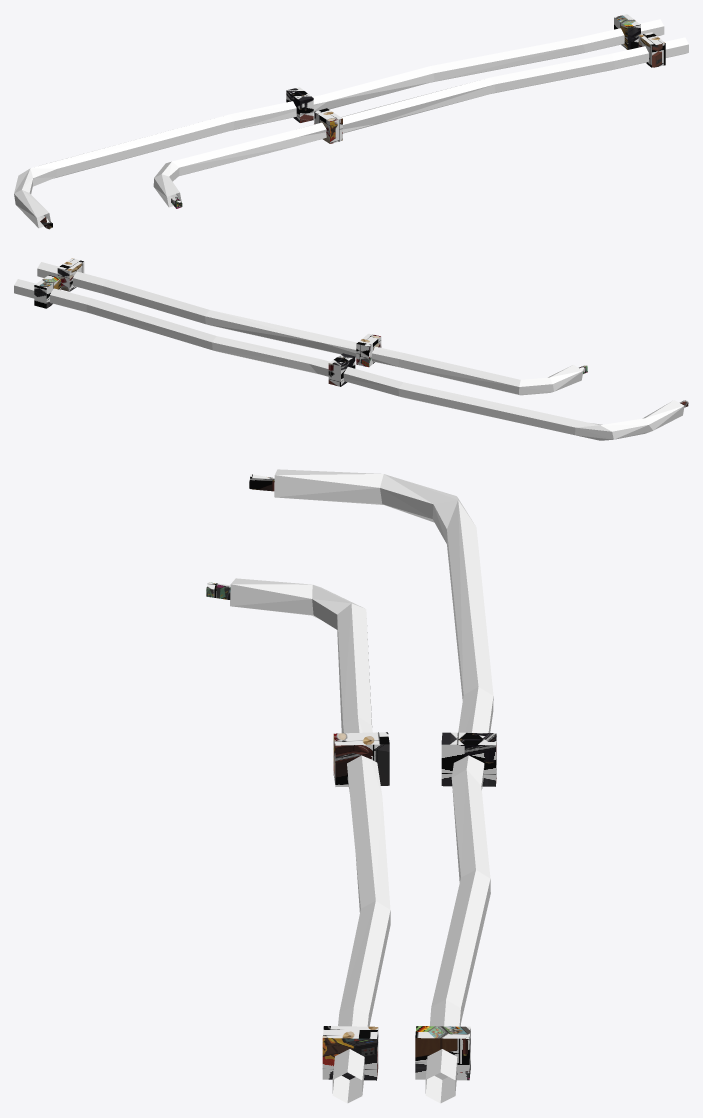
3 views of the same model, one above another, from view 1: azimuth 30°, elevation 25°; view 2: azimuth 150°, elevation 25°; view 3: azimuth 270°, elevation 25° (orthographic). The views are drawn at different scales.
Bounding box in the file's own units: 1.01 × 0.032 × 0.2029.
